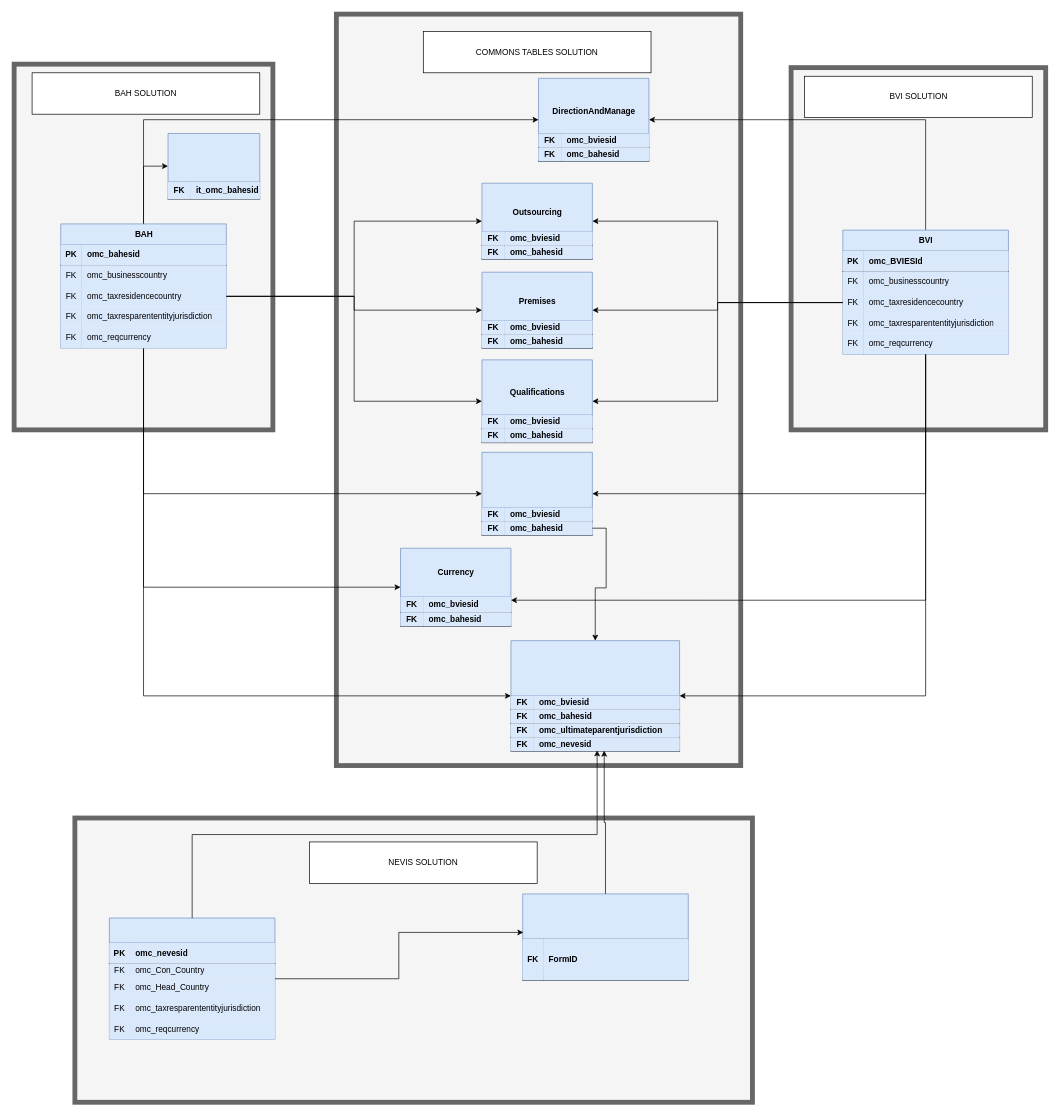
This 1060x1116 diagram has some shape labels left out. The box of each missing label's shape, as (x1, y1, x2, y2) in pixels:
CountryList: (510, 640, 680, 751)
Declaration: (167, 133, 260, 199)
NevisCIT101: (109, 917, 275, 1039)
NevisCorpTaxQuestionanaire: (522, 893, 688, 980)
UltimateParent: (481, 452, 592, 535)
